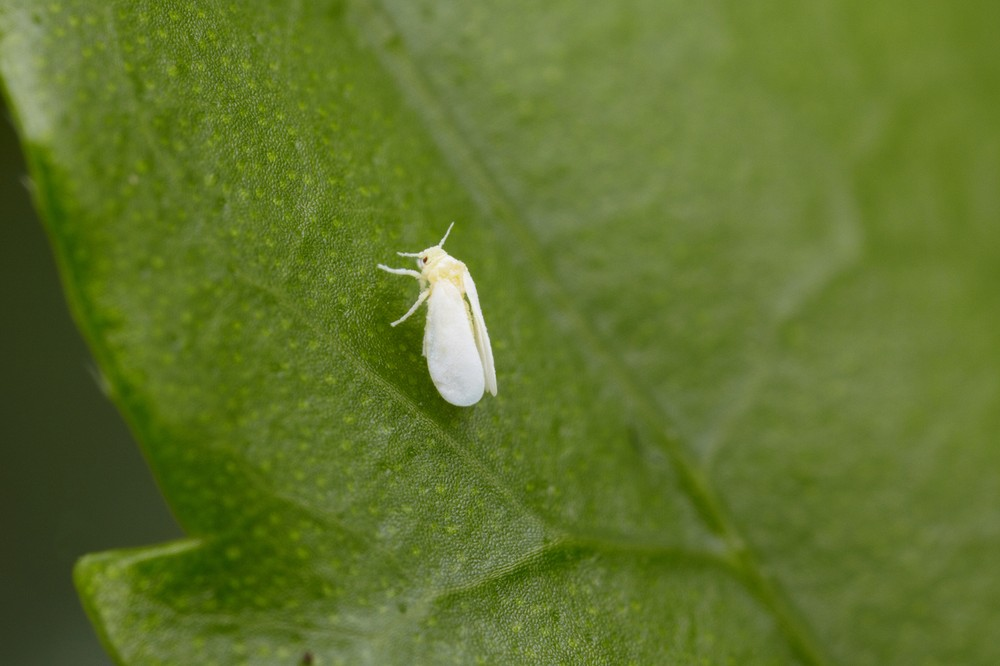Mosca Blanca: (382, 220, 544, 434)
